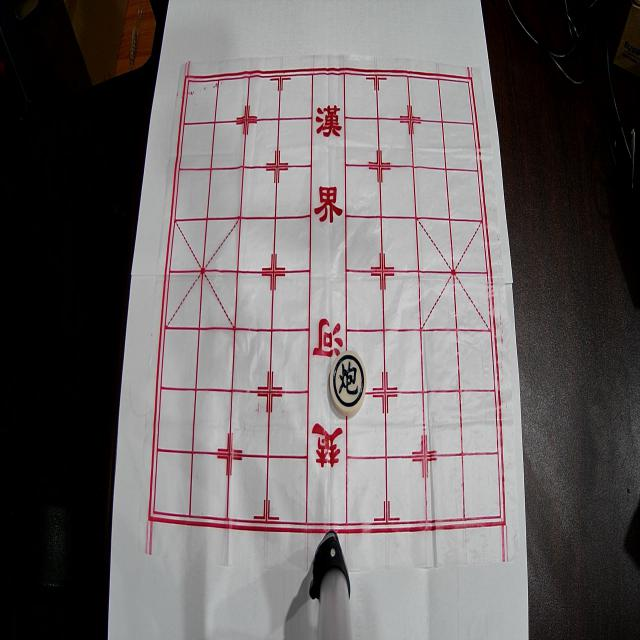black-cannon: (329, 351, 366, 416)
